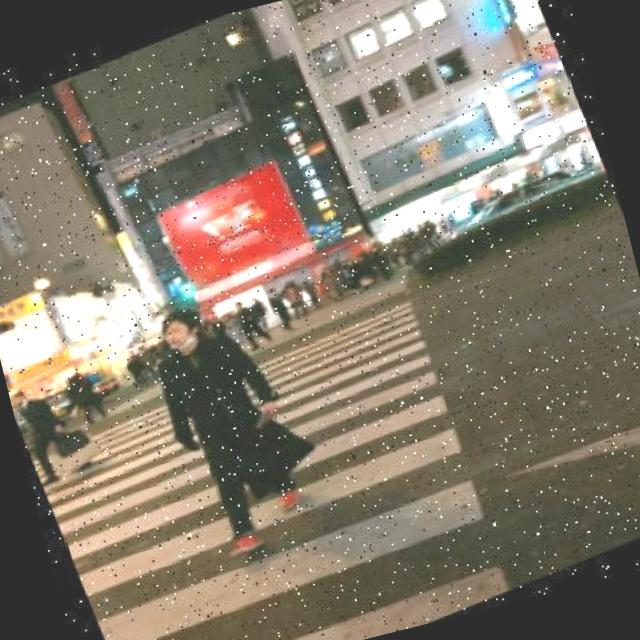Person: (128, 280, 320, 566), (7, 369, 92, 490), (227, 293, 270, 354)
